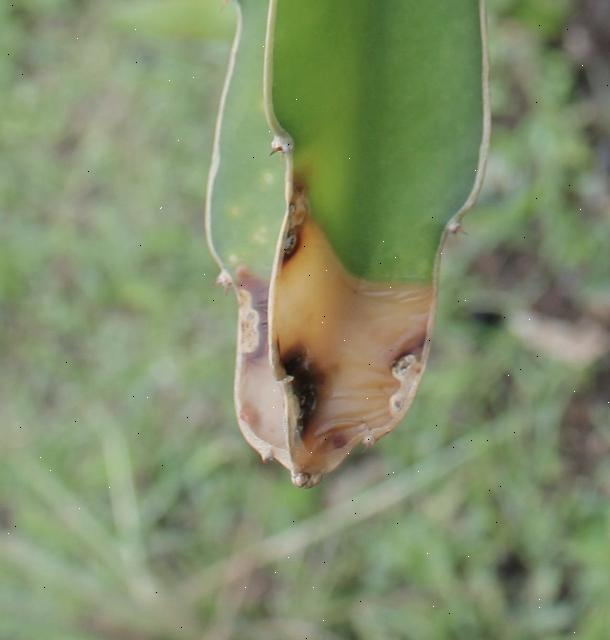stemcanker: (211, 166, 444, 490)
